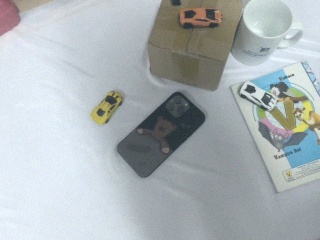book: (228, 58, 320, 195)
box: (147, 1, 245, 91)
cup: (231, 1, 304, 68)
phone: (115, 91, 207, 180)
toy_car: (237, 79, 280, 111), (90, 90, 123, 125), (178, 6, 222, 30)
